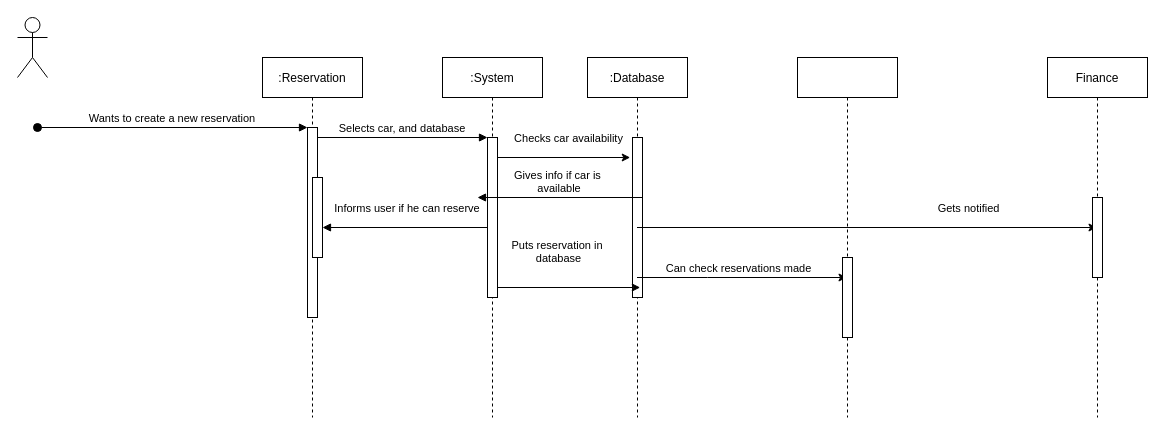
Image size: 1165x435. Some labels were removed from this diagram. Here are the shapes that lost their labels. From the top down, the centre of each, then its label:
At point 32,47: "User".
At point 847,237: "Admin".
